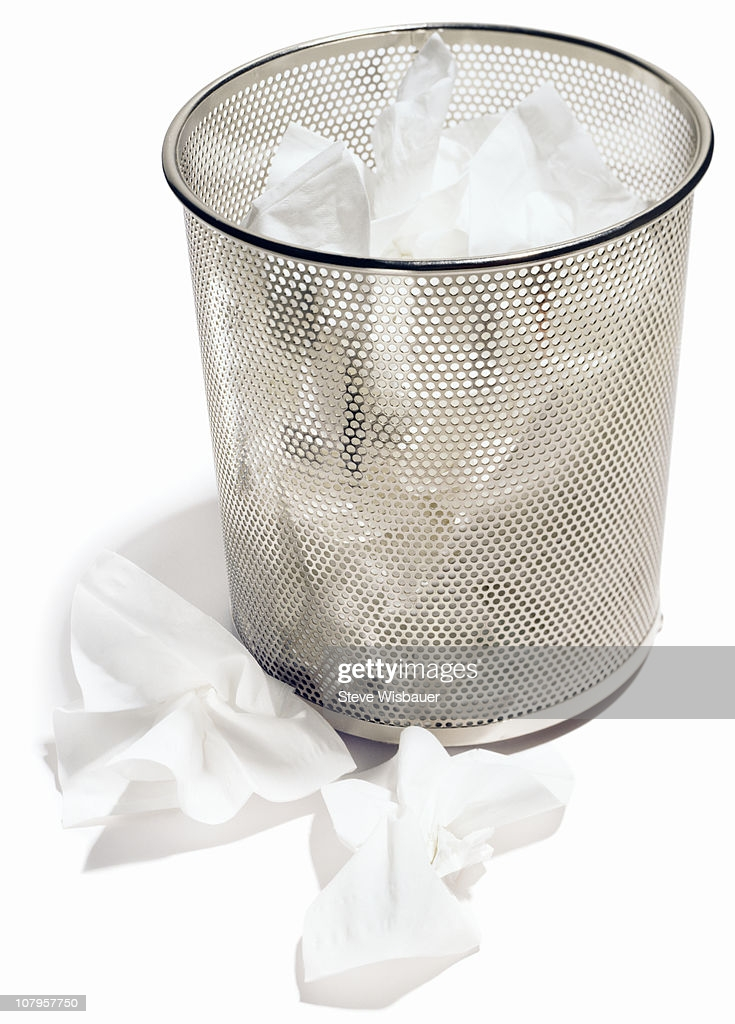Tissue: (292, 723, 568, 1019)
